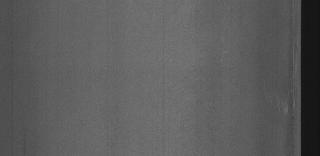silk spot: (282, 8, 298, 130)
